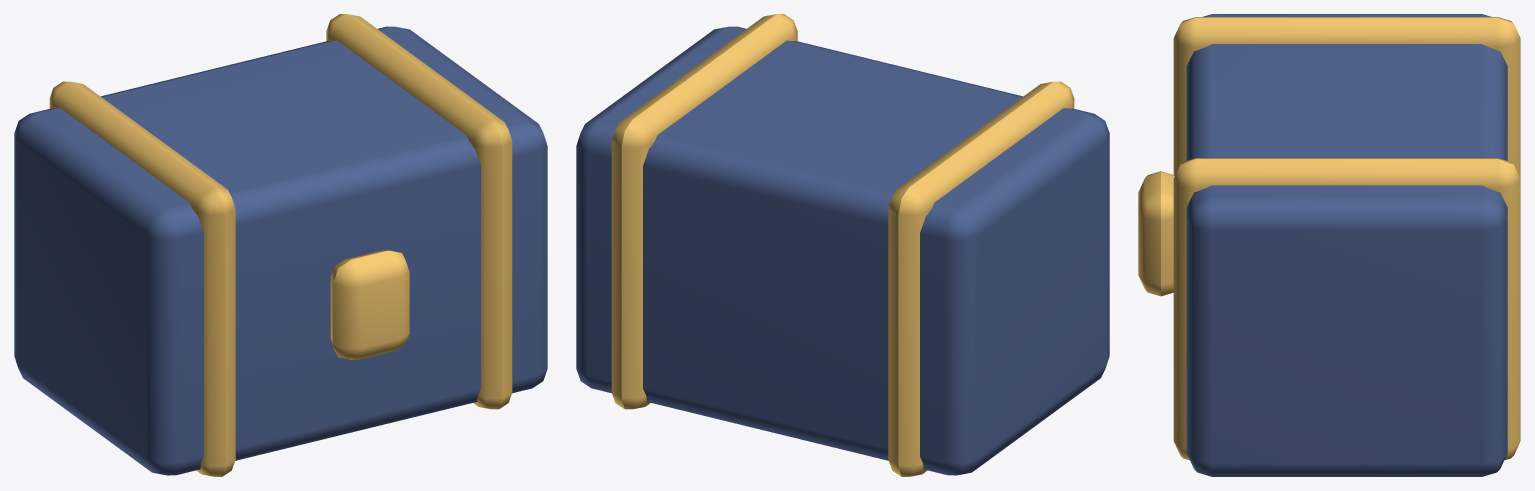
The model's file is Chest.fbx.
3 renders of one model, left to right at view 1: azimuth 30°, elevation 25°; view 2: azimuth 150°, elevation 25°; view 3: azimuth 270°, elevation 25°, orthographic. The views are drawn at different scales.
Parts seen in each view (by area): view 1: Chest body, Chest band, Chest band.001, Chest lock; view 2: Chest body, Chest band, Chest band.001; view 3: Chest body, Chest band.001, Chest band, Chest lock.
Part boxes in pixels (x1=…): Chest body: x1=14, y1=26, x2=547, y2=475; Chest band: x1=49, y1=81, x2=235, y2=476; Chest band.001: x1=326, y1=14, x2=512, y2=409; Chest lock: x1=330, y1=250, x2=409, y2=359; Chest body: x1=576, y1=26, x2=1109, y2=475; Chest band: x1=888, y1=81, x2=1074, y2=476; Chest band.001: x1=611, y1=14, x2=797, y2=409; Chest body: x1=1186, y1=14, x2=1507, y2=476; Chest band.001: x1=1173, y1=158, x2=1520, y2=460; Chest band: x1=1173, y1=17, x2=1520, y2=178; Chest lock: x1=1138, y1=171, x2=1174, y2=296.
Size of the model in its own units: 75 by 52 by 59.5.
